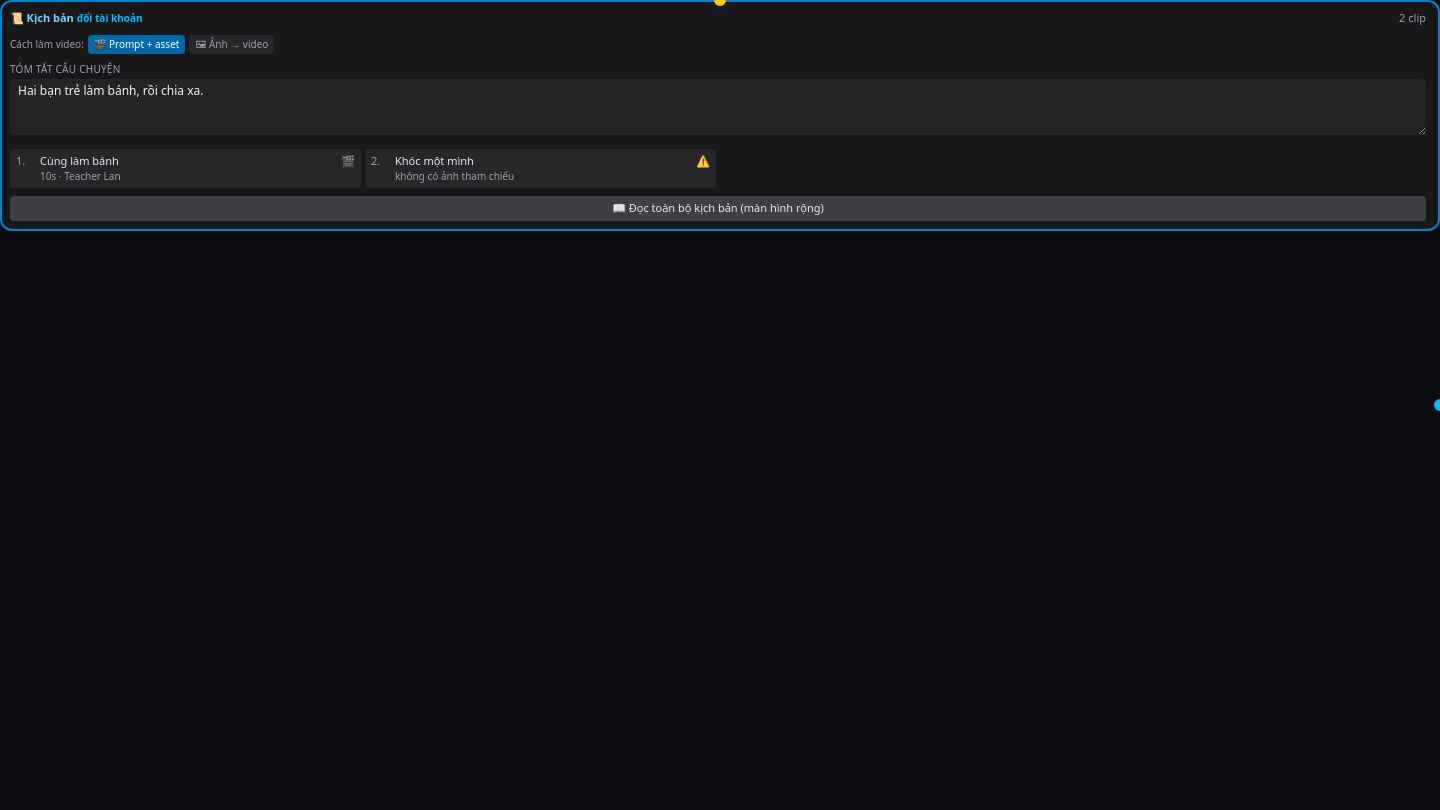
ScriptNode › opens the full script with each clip prompt and its last error
What coordinates should you click on to do the following:
click the button "📖 Đọc toàn bộ kịch bản (màn hình rộng)"
I would click on:
 (718, 208)
Its box is [10, 196, 1426, 220].
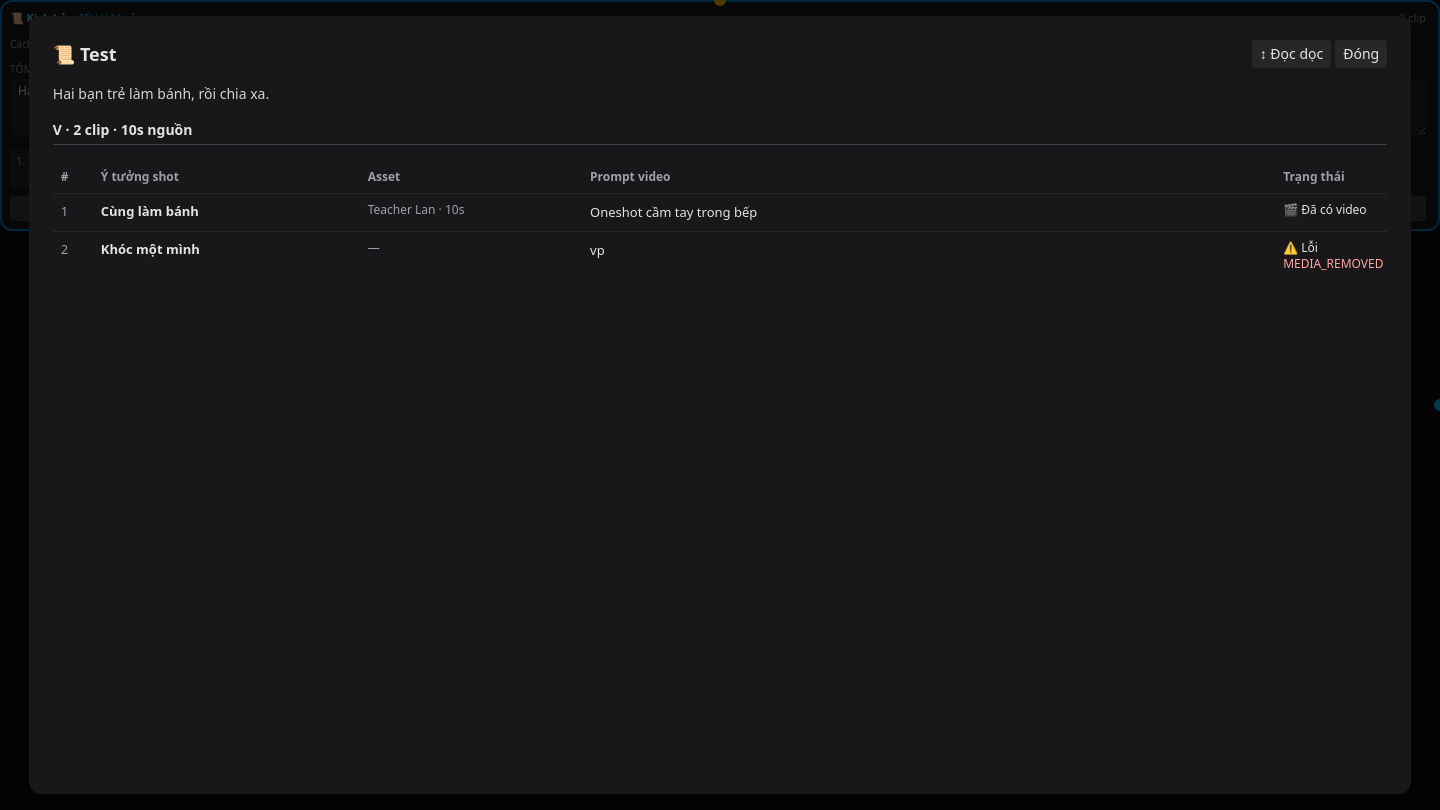
Result: the table is shown at [53, 161, 1387, 280]
What coordinates should you click on to do the following:
click the button "↕ Đọc dọc"
I would click on:
 (1291, 54)
Its box is [1252, 40, 1331, 68].
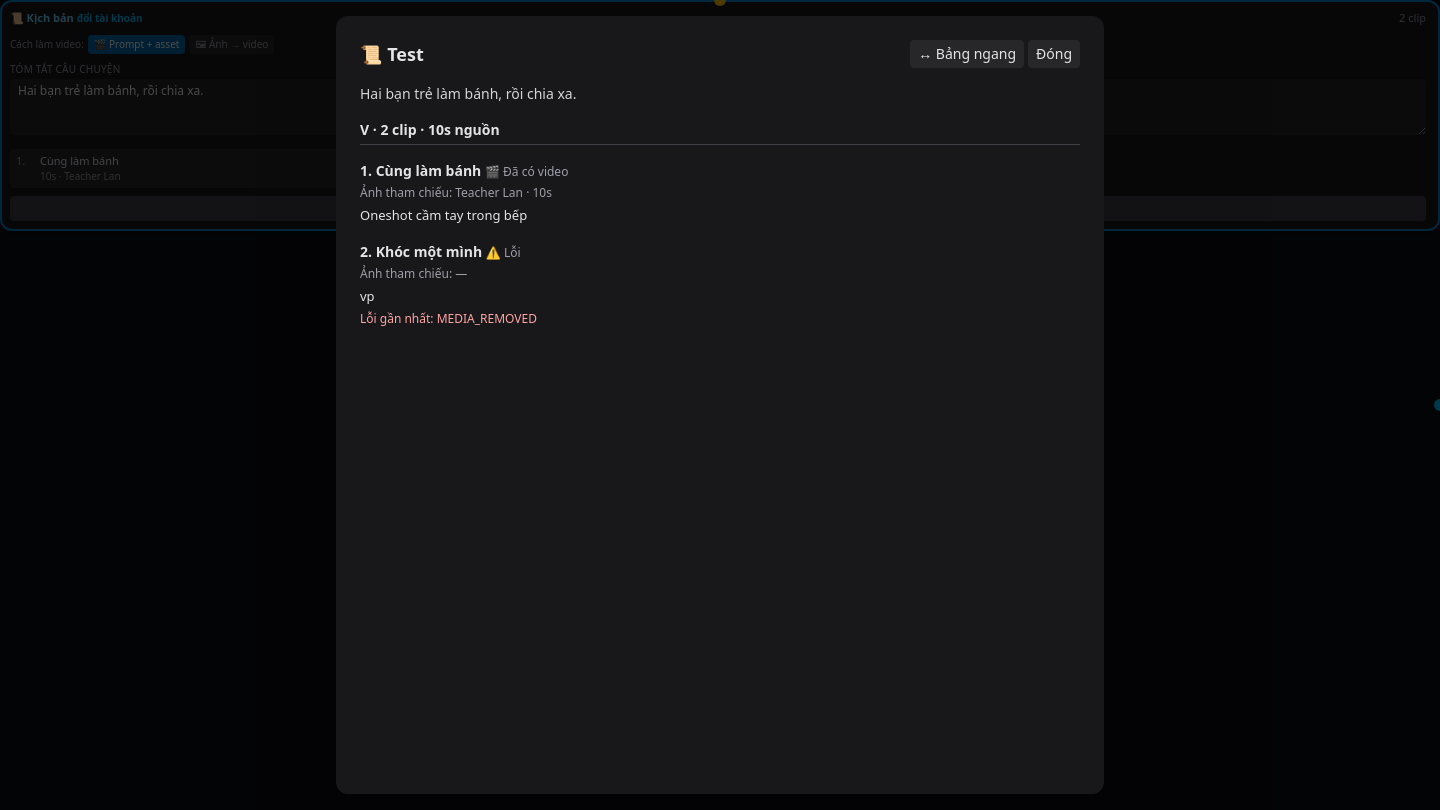
Result: the table is gone
What coordinates should you click on to do the following:
click the button "Đóng"
I would click on:
 (1054, 54)
Its box is [1028, 40, 1080, 68].
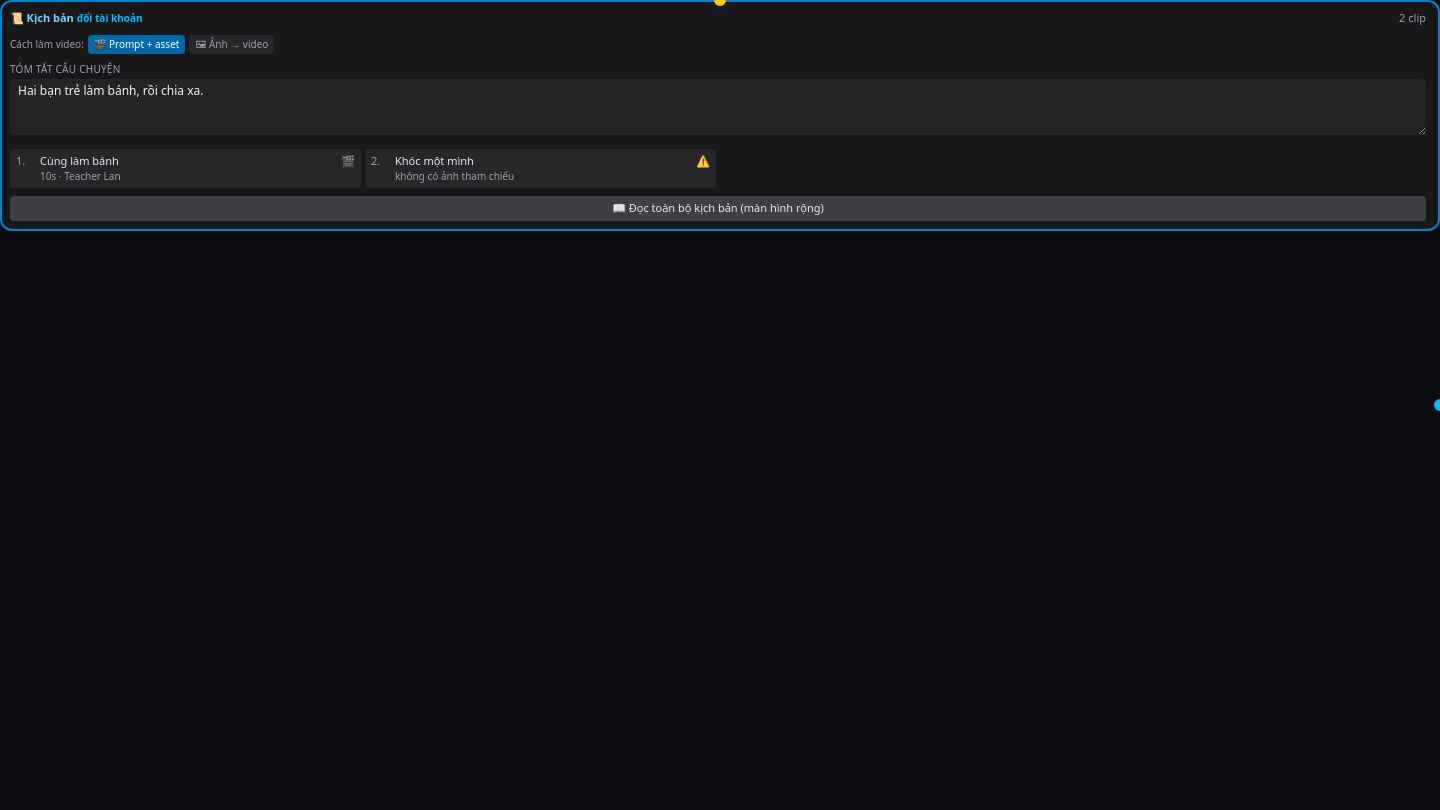
Result: the dialog is gone
